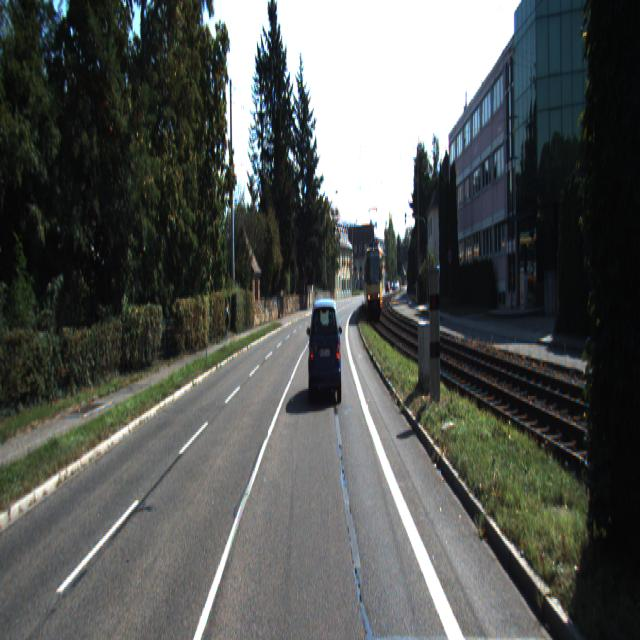Car: (308, 298, 342, 409), (364, 242, 382, 321)
